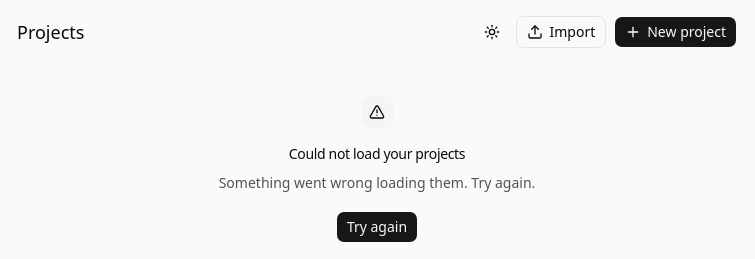
Test: ProjectsPage › shows an error state with retry when loading projects fails, and recovers
Expected: the text "Could not load your projects" is shown, [289,144,465,164]
Click the button "Try again" at (377, 227), box [336,211,418,243]
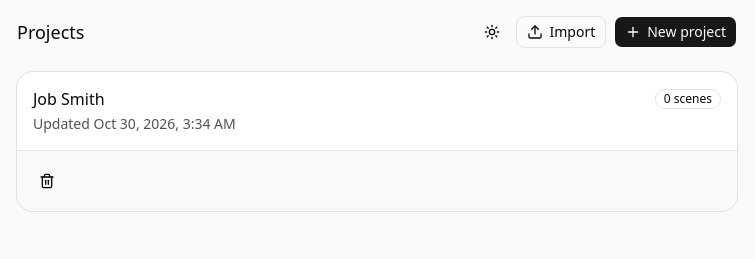
Now the link "Job Smith" is shown, box [33,88,105,110]
Now the text "Could not load your projects" is gone
